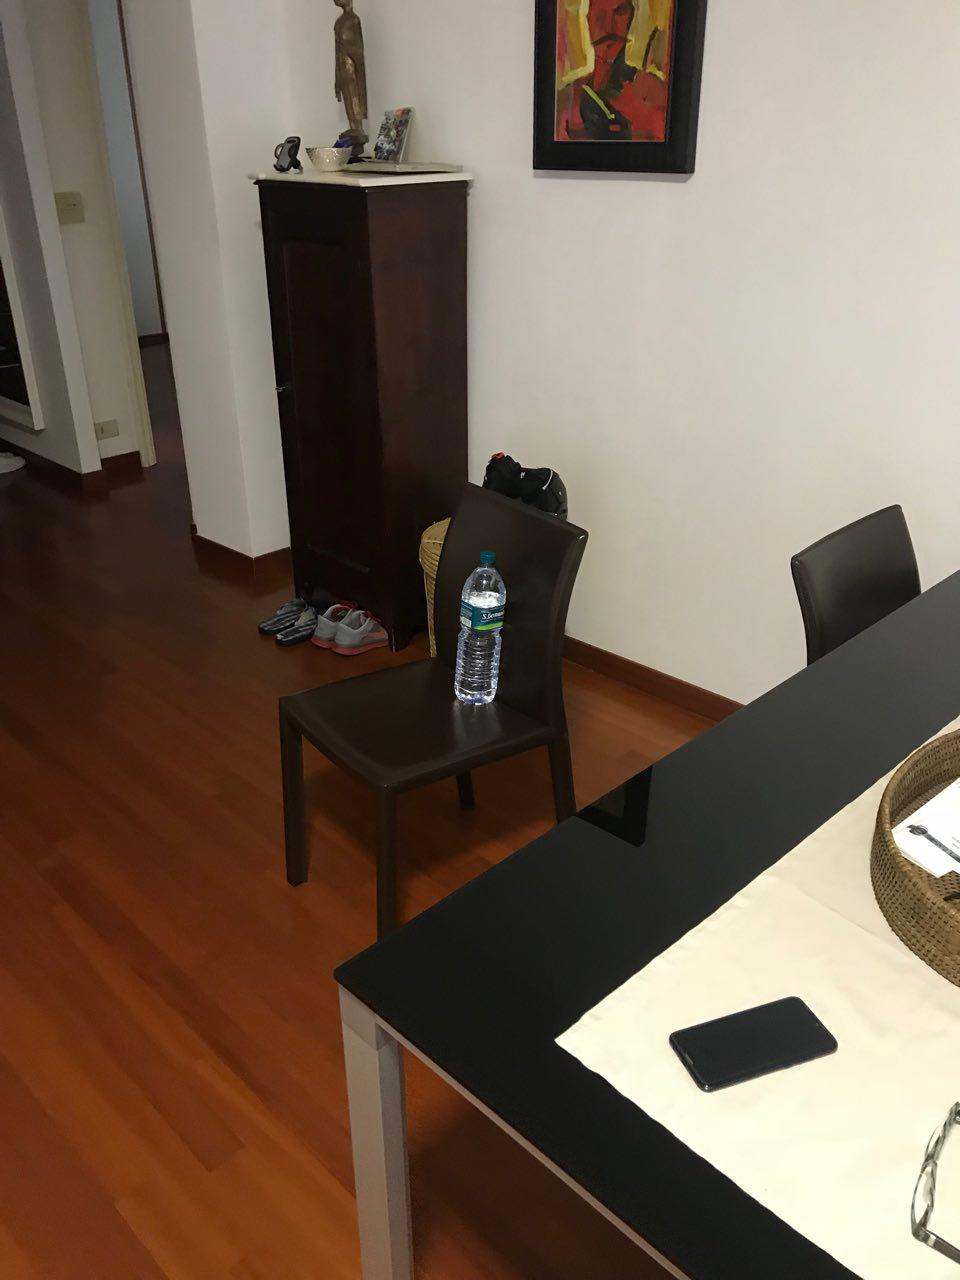san_bernardo: (453, 549, 506, 705)
